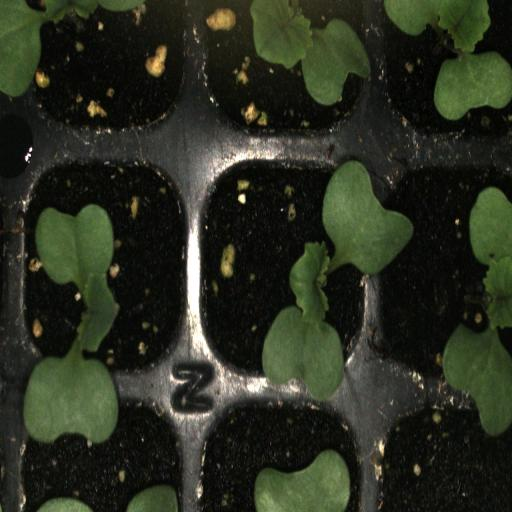Germinacao: (10, 142, 195, 392), (195, 141, 375, 388), (377, 142, 512, 388), (10, 0, 194, 145), (198, 0, 372, 145), (377, 0, 512, 138)
